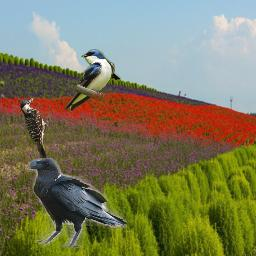Crow: (27, 158, 127, 248)
Swallow: (64, 49, 115, 111)
Woodpecker: (20, 98, 53, 164)
